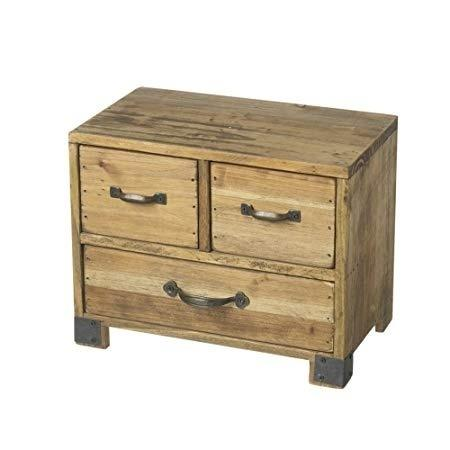cabinet_door: (81, 258, 334, 347), (209, 171, 337, 264), (76, 152, 197, 245)
handle: (164, 284, 251, 313), (240, 205, 301, 228), (107, 187, 165, 209)
